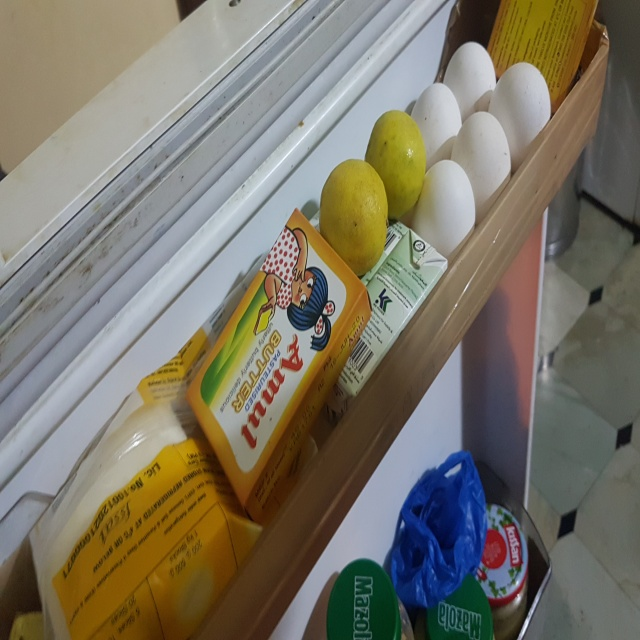butter: (183, 207, 359, 478), (488, 2, 608, 110)
eggs: (450, 110, 525, 215), (412, 157, 481, 262), (492, 53, 553, 171), (438, 38, 501, 125), (409, 77, 467, 156)
lemon: (309, 151, 406, 279), (361, 110, 428, 220)
